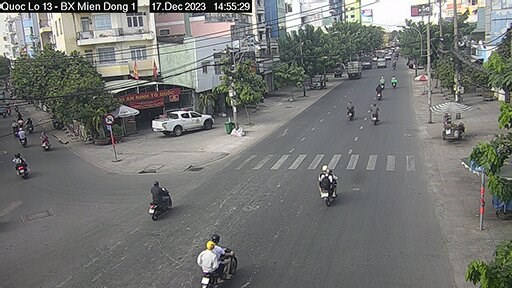car: (152, 107, 224, 137)
motorbike: (182, 230, 237, 282), (137, 178, 182, 229), (306, 160, 343, 205)
truck: (343, 58, 360, 85)
